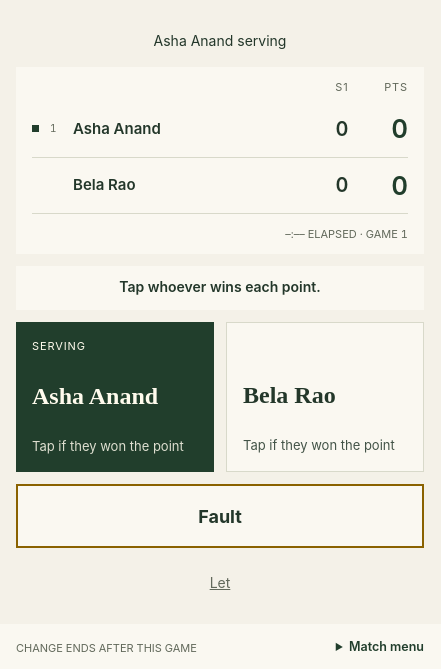
Test case: takes a second fault as a double fault
The width and height of the screenshot is (441, 669).
(page scrolled)
Click the button "Fault": click(220, 516) 16,484 -> 424,548
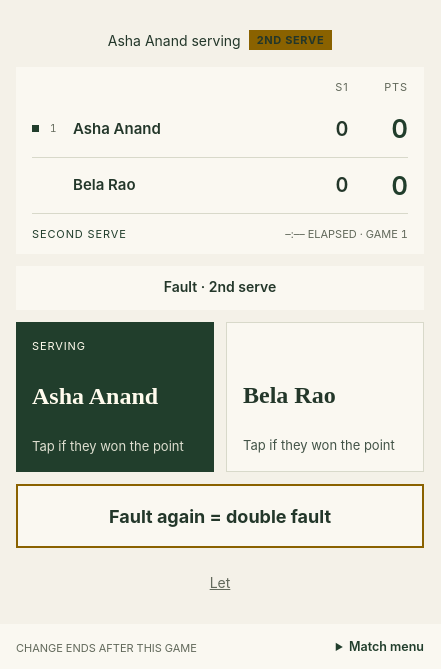
Expected: the text "2nd serve" is shown, 249,30 -> 332,50
Click the button "Fault again = double fault": click(220, 516) 16,484 -> 424,548
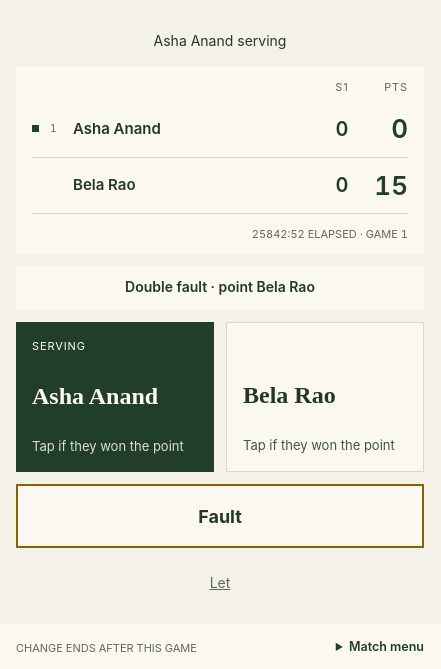
Expected: the text "Double fault · point Bela Rao" is shown, 16,266 -> 424,310
